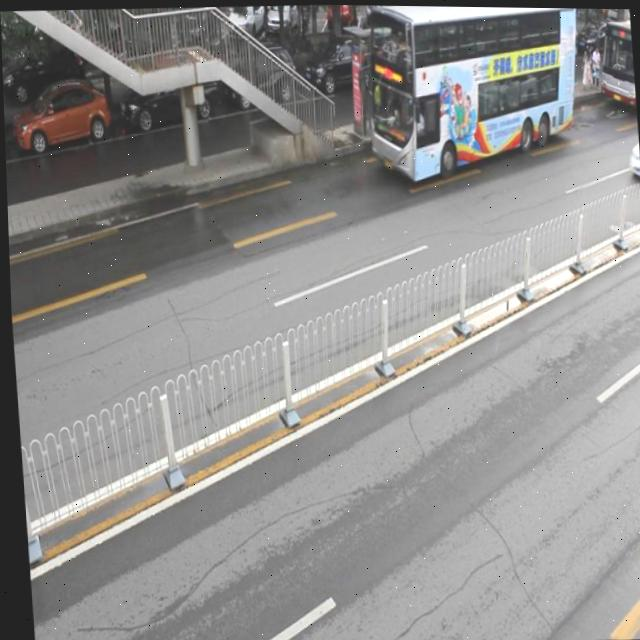car: (9, 74, 112, 152), (119, 56, 218, 125), (300, 28, 380, 89), (228, 38, 294, 103), (623, 112, 640, 186)
van: (359, 4, 583, 186), (595, 15, 635, 106)
